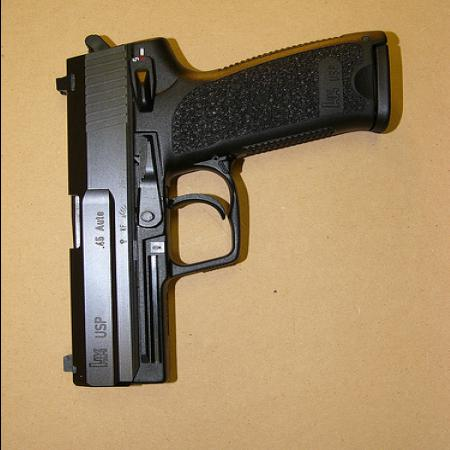Pistol: (52, 29, 388, 388)
